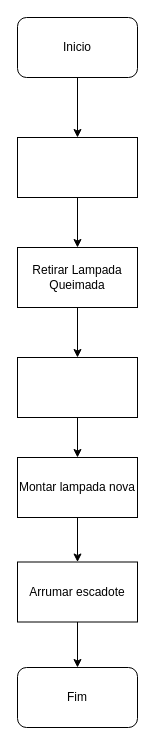
Some shapes in this 155 by 745 pixel diagram are drawn without their labels. Each missing label, with the centre of its shape:
Montar Escadote: the point at 77,167
Verificar o tipo de lamapada: the point at 77,387
